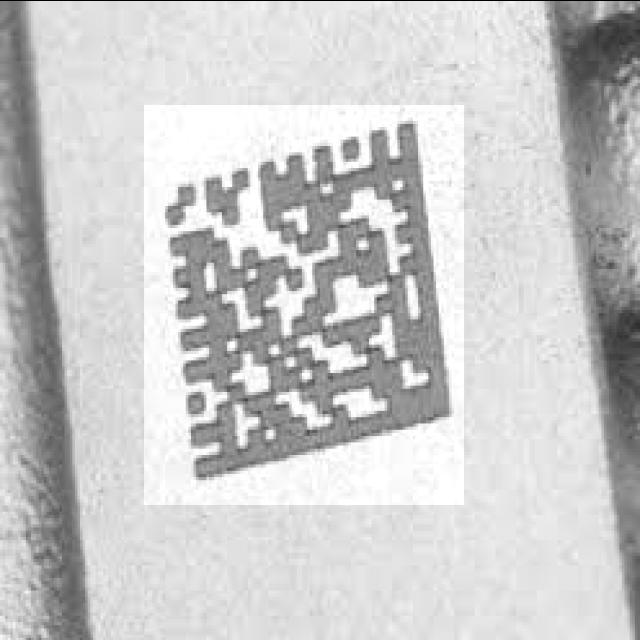Data-Matrix: (145, 104, 465, 504)
